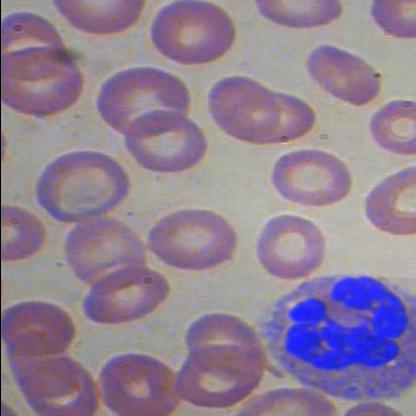RBC: (30, 146, 134, 226), (92, 66, 194, 140), (1, 42, 87, 121), (146, 0, 238, 72), (56, 209, 146, 282), (293, 40, 384, 112), (144, 207, 235, 279), (120, 110, 208, 178), (90, 350, 180, 416), (268, 141, 348, 213), (174, 344, 258, 410), (202, 71, 276, 145), (74, 268, 166, 326), (216, 92, 314, 146), (252, 214, 330, 281)
WBC: (252, 262, 415, 410)
